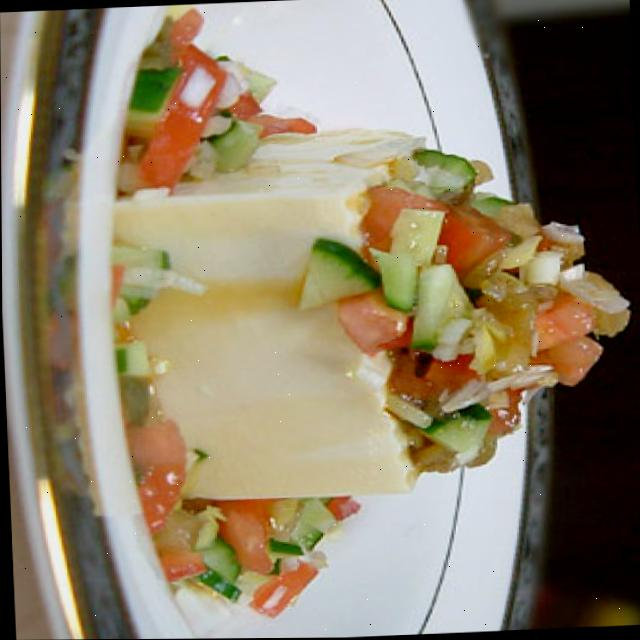豆腐料理: (104, 0, 640, 625)
